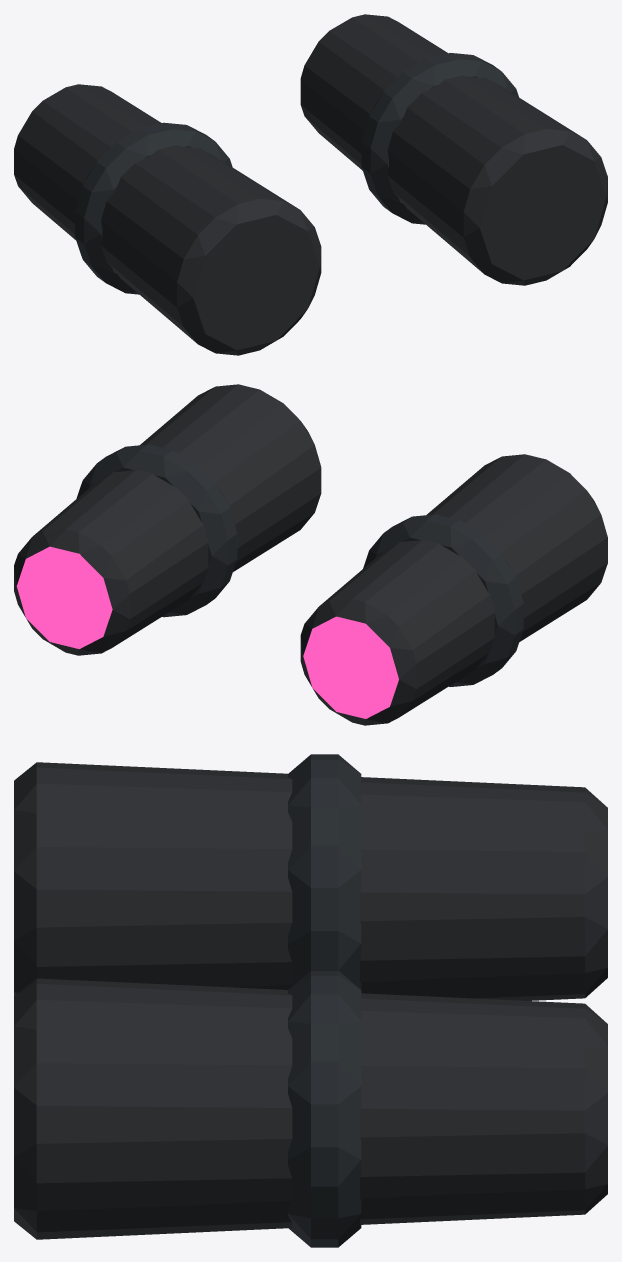
The model's file is Engine_Boost.fbx.
3 views of the same model, one above another, from view 1: azimuth 30°, elevation 25°; view 2: azimuth 150°, elevation 25°; view 3: azimuth 270°, elevation 25° (orthographic). The views are drawn at different scales.
Visible parts, largest first — view 1: Engine_Boost; view 2: Engine_Boost; view 3: Engine_Boost.
Part boxes in pixels (x1=…): Engine_Boost: x1=14, y1=14, x2=607, y2=355; Engine_Boost: x1=14, y1=384, x2=607, y2=725; Engine_Boost: x1=14, y1=754, x2=607, y2=1247.
Bounding box in the file's own units: 0.8595 × 0.2996 × 0.65.
